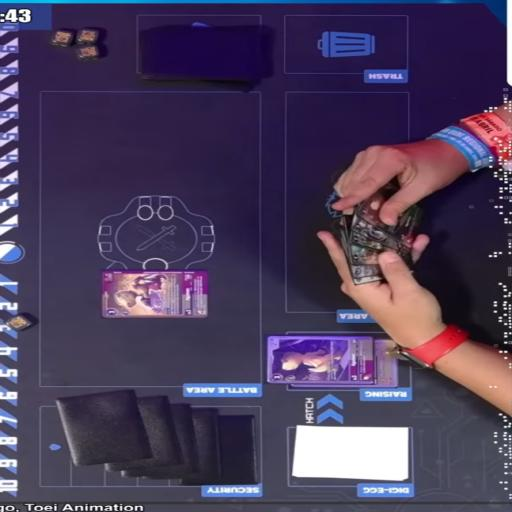card: (264, 334, 381, 385), (98, 267, 212, 319), (337, 178, 420, 240), (343, 219, 413, 258), (338, 243, 418, 267), (372, 340, 408, 393), (340, 264, 402, 283)
